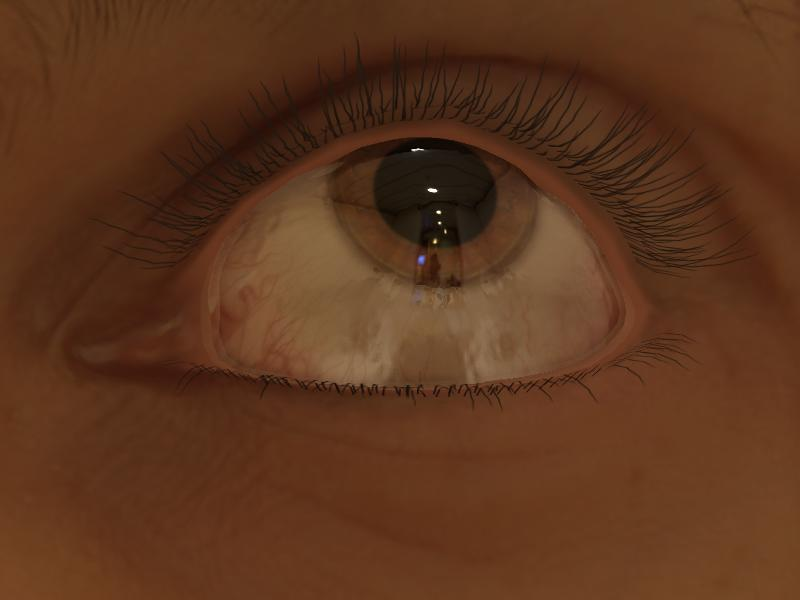eye: (328, 135, 540, 289)
